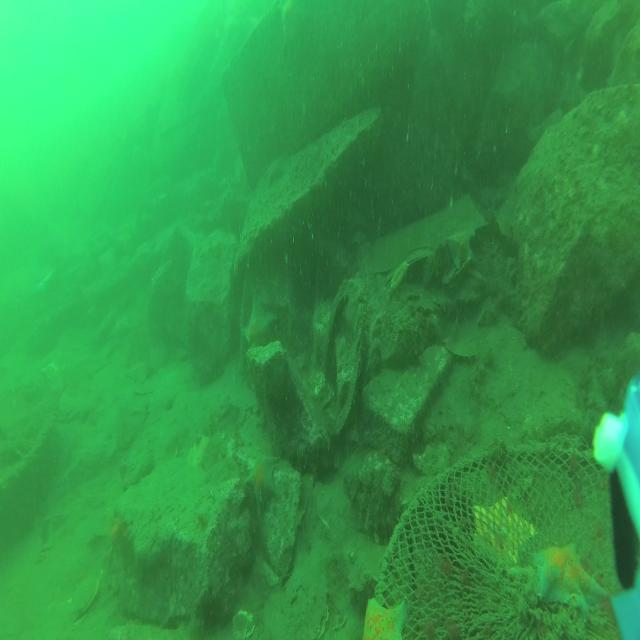scallop: (68, 579, 99, 618), (231, 609, 255, 640)
starfish: (535, 544, 609, 622), (470, 496, 534, 567), (242, 289, 279, 354), (246, 455, 280, 516), (362, 596, 407, 640), (444, 224, 478, 269)
